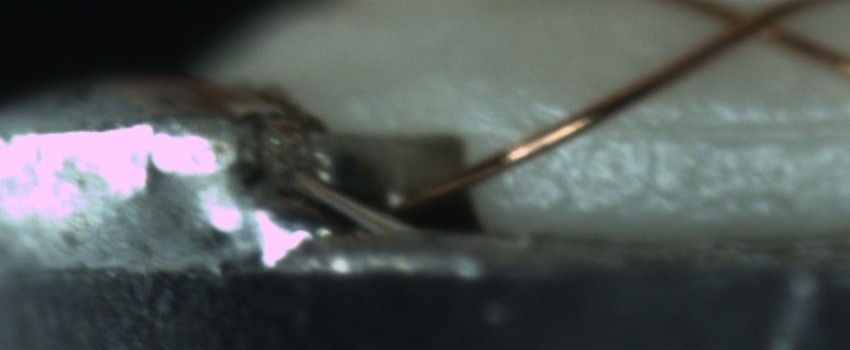CL: (716, 1, 800, 47)
DL: (589, 99, 849, 163)
